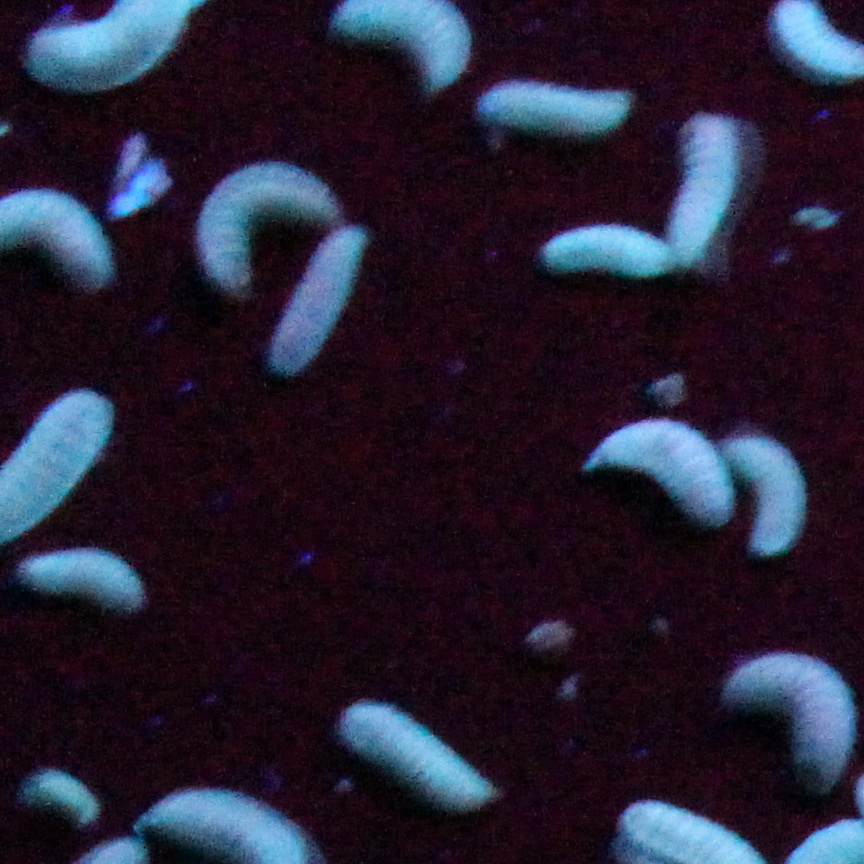larve: (342, 689, 496, 810), (724, 642, 845, 782), (210, 159, 324, 282), (598, 420, 722, 517), (668, 113, 745, 256), (277, 242, 361, 368), (736, 443, 805, 552), (482, 82, 619, 133), (26, 556, 143, 606), (547, 224, 661, 270), (27, 770, 94, 820)
